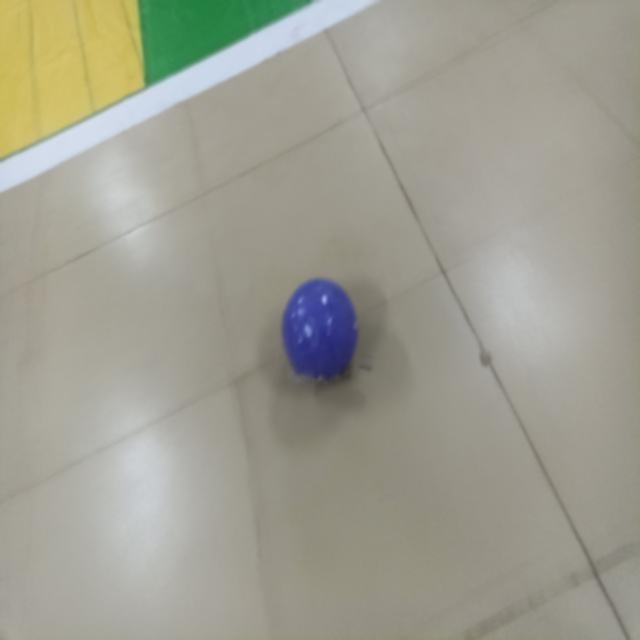purple_ball: (284, 277, 361, 382)
